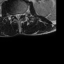CCS_normal: (17, 11, 19, 22)
LFS_stenosis: (21, 11, 24, 17)
LLS_normal: (19, 11, 21, 18)
RFS_stenosis: (12, 12, 14, 18)
RLS_normal: (14, 12, 17, 19)
